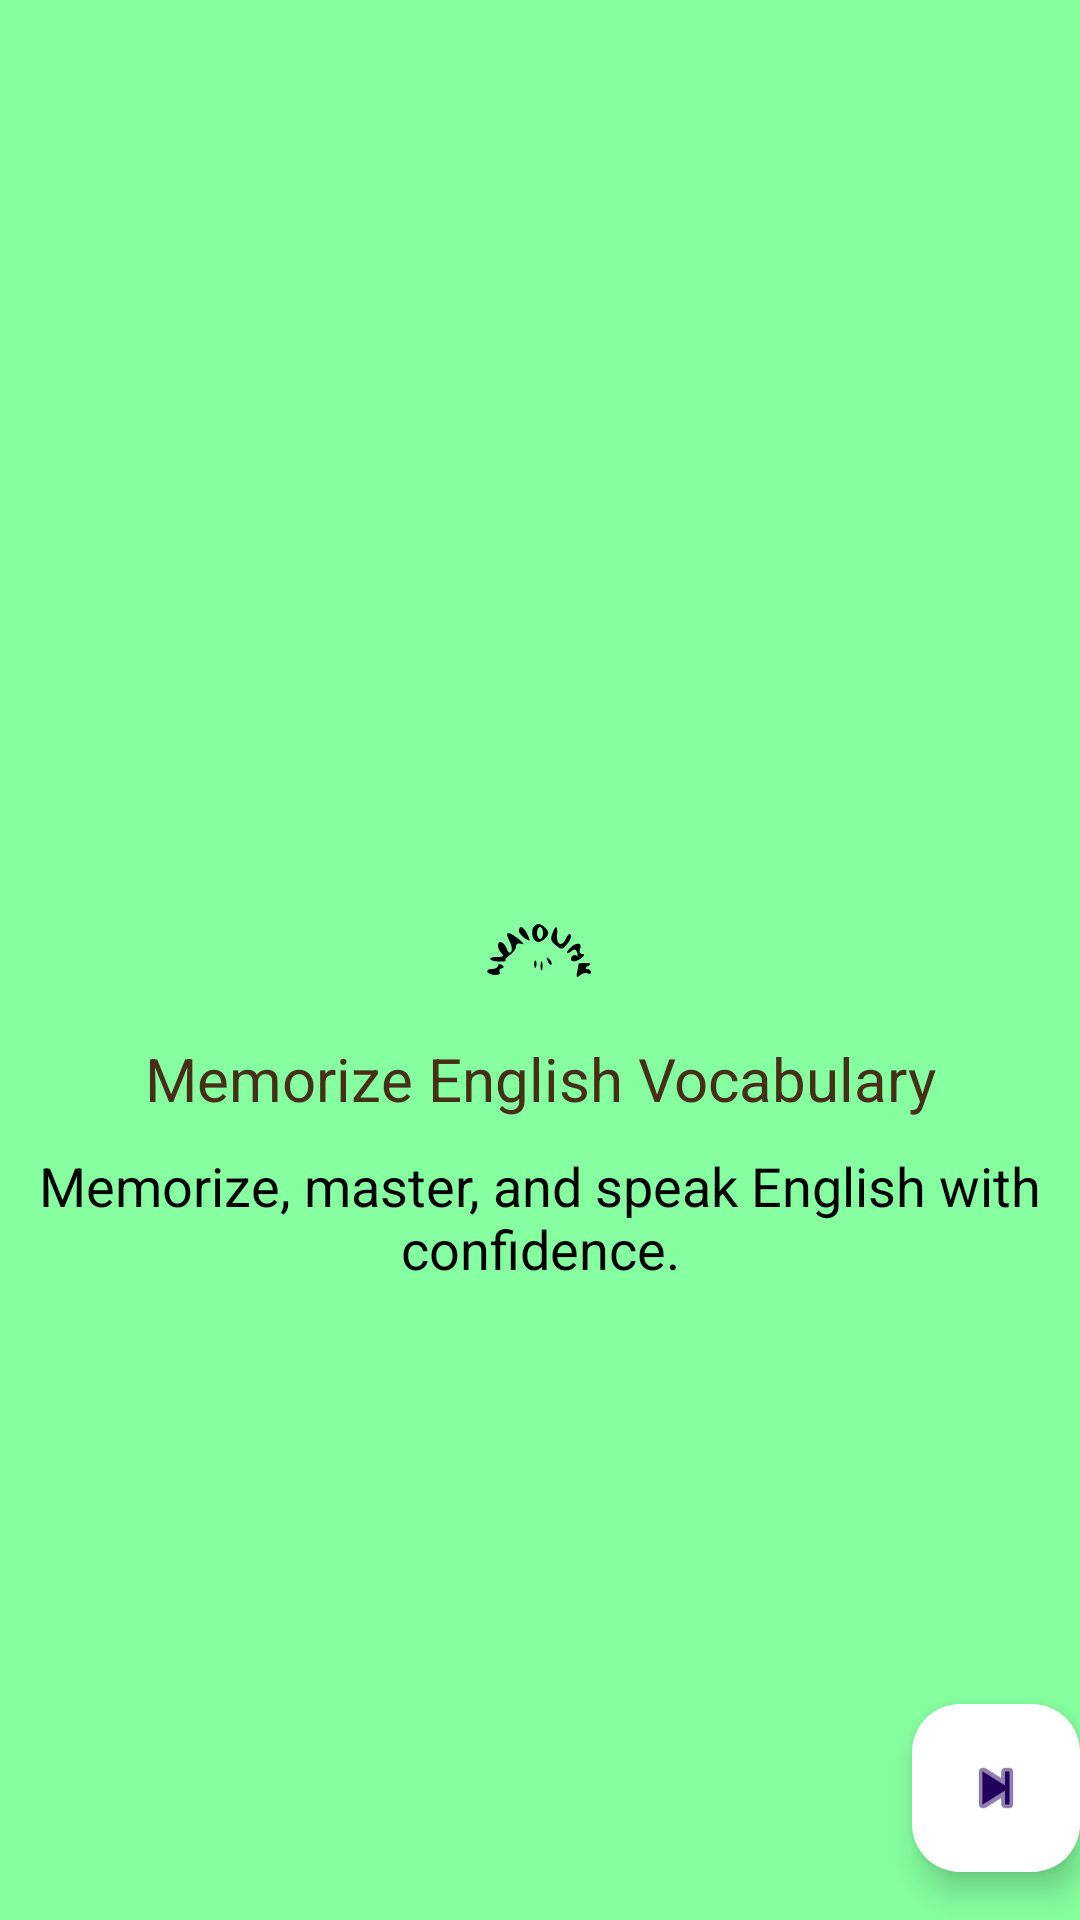

Icons on this 1080 x 1920 Android screen, each with its box as (left=x1, top=y1, right=x2, bottom=y2):
Next to introduce fragment: (left=912, top=1704, right=1080, bottom=1872)
